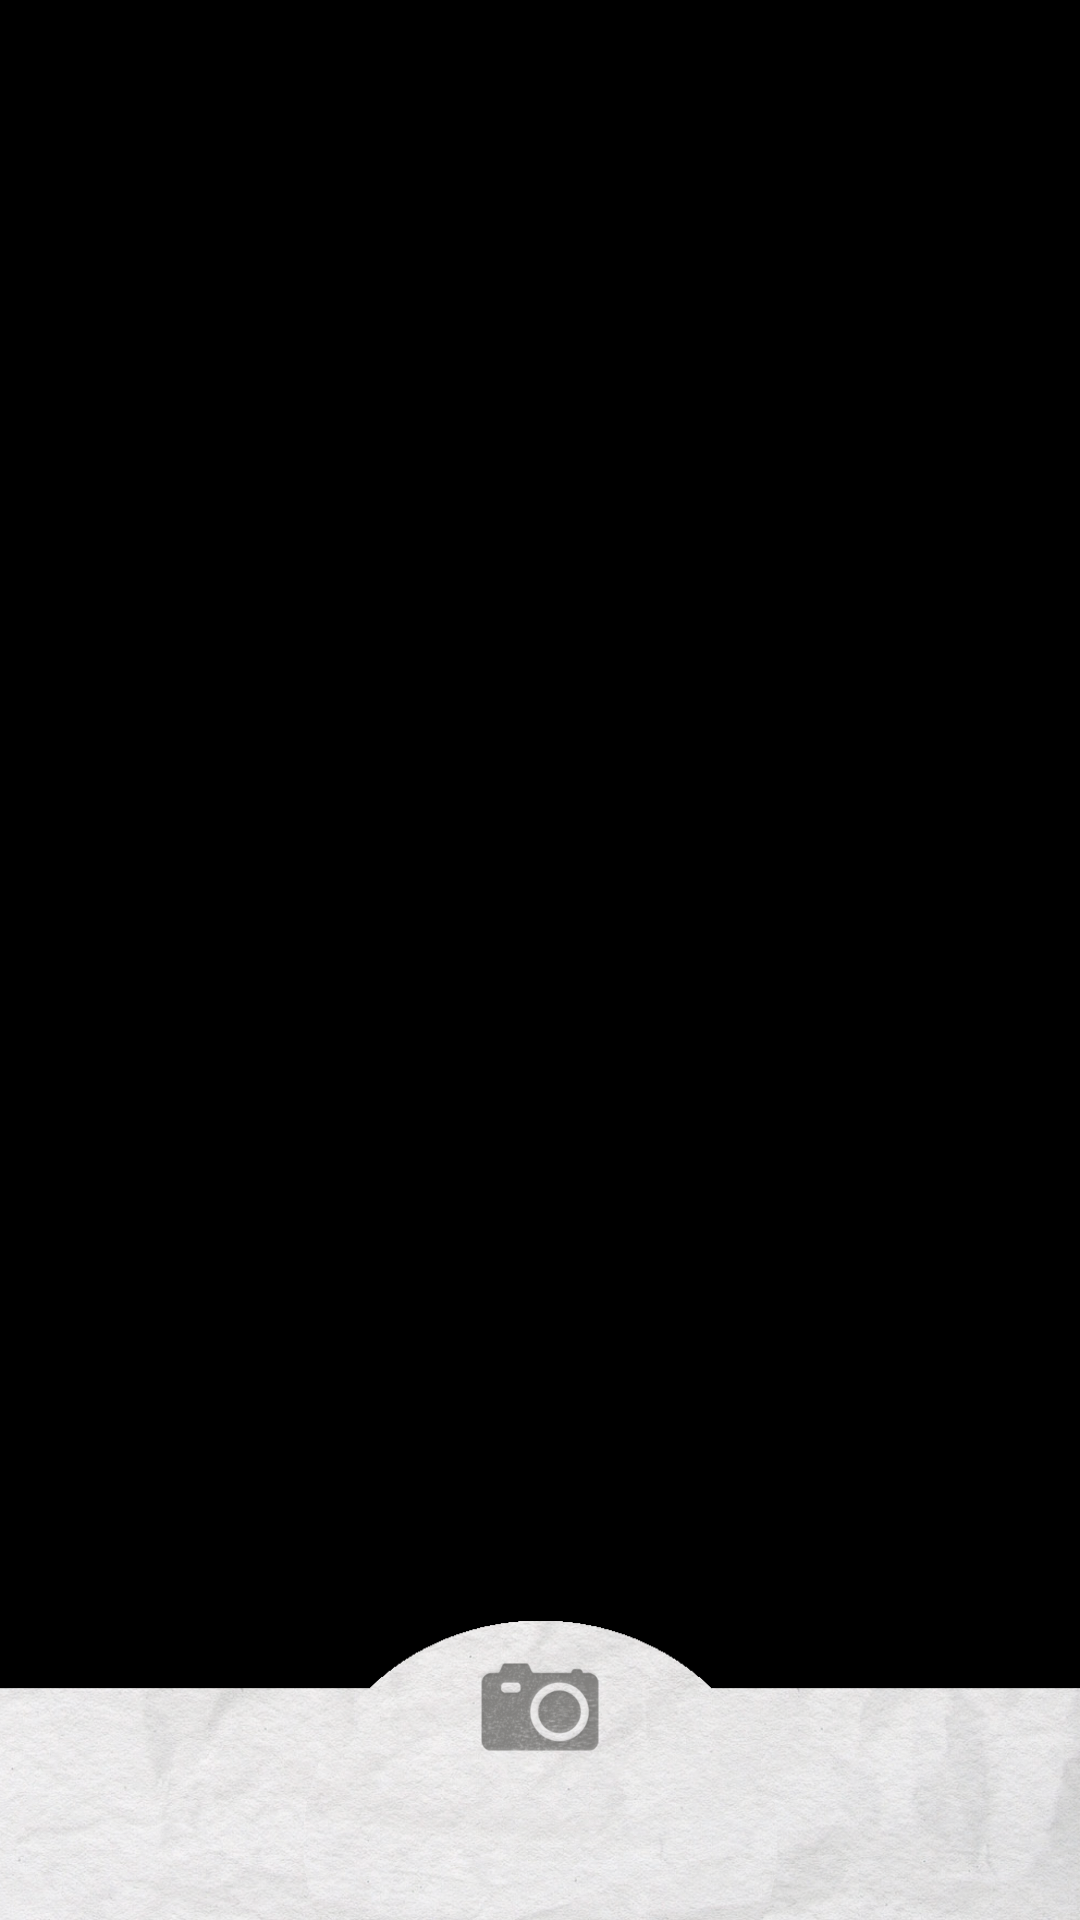

Icon bounding boxes for this 1080px×1920px phone screenshot, format (x1, y1, x2, y2):
camera: (470, 1656, 599, 1751)
